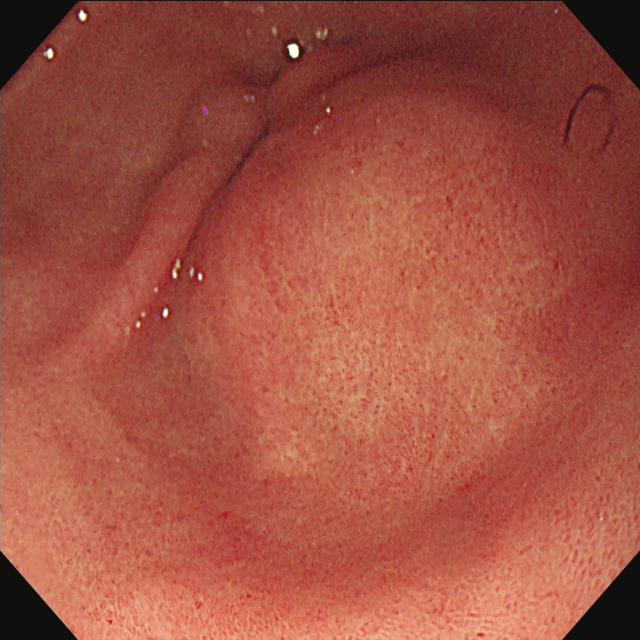U: (286, 42, 302, 61), (43, 46, 57, 63), (172, 258, 182, 280), (78, 8, 90, 25)
